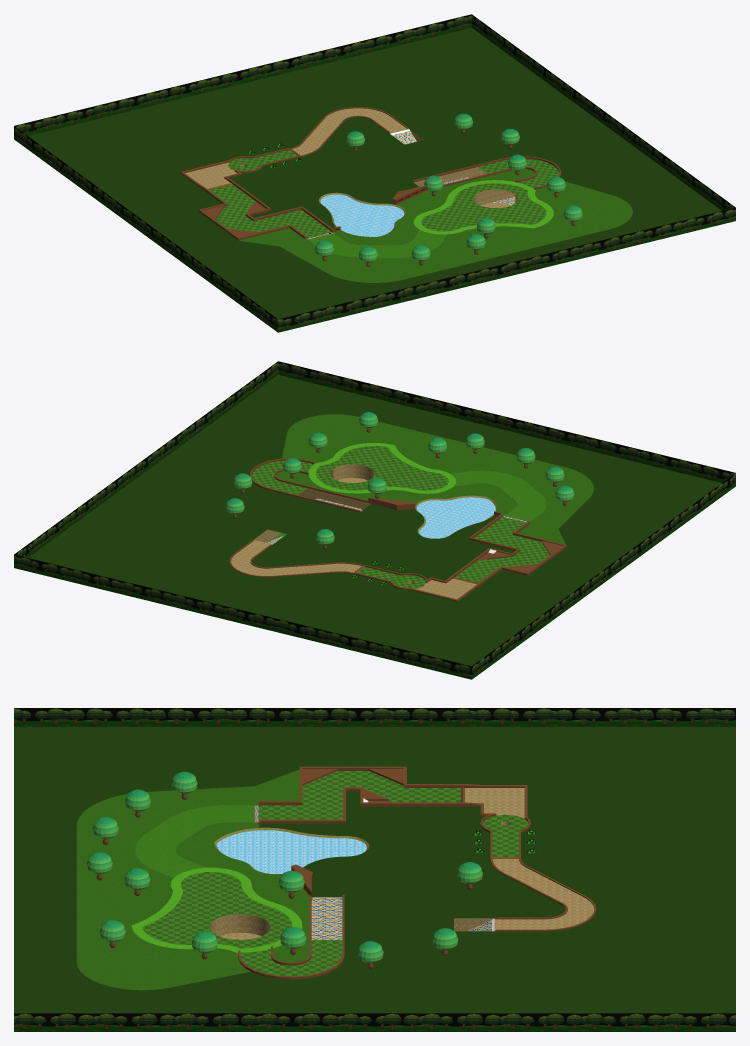
3 views of the same model, one above another, from view 1: azimuth 30°, elevation 25°; view 2: azimuth 150°, elevation 25°; view 3: azimuth 270°, elevation 25° (orthographic). The views are drawn at different scales.
Parts seen in each view (by area): view 1: Golfcoursev1_1-SKP--darkGrass, Golfcoursev1_1-SKP--Tile_Mosaic_Multi, Golfcoursev1_1-SKP--Off_grass, Golfcoursev1_1-SKP--Greenzone, Golfcoursev1_1-SKP--wood, Golfcoursev1_1-SKP--Herringbone, Golfcoursev1_1-COM-Tree1__Tre-8474-Material_36, Golfcoursev1_1-SKP--Resin_Blue1, Golfcoursev1_1-SKP--Lightgrass, Golfcoursev1_1-SKP--Resin_Blue; view 2: Golfcoursev1_1-SKP--darkGrass, Golfcoursev1_1-SKP--Tile_Mosaic_Multi, Golfcoursev1_1-SKP--Off_grass, Golfcoursev1_1-SKP--Greenzone, Golfcoursev1_1-SKP--wood, Golfcoursev1_1-SKP--Herringbone, Golfcoursev1_1-COM-Tree1__Tre-8474-Material_36, Golfcoursev1_1-SKP--Resin_Blue1, Golfcoursev1_1-SKP--Lightgrass, Golfcoursev1_1-SKP--Resin_Blue; view 3: Golfcoursev1_1-SKP--darkGrass, Golfcoursev1_1-SKP--Tile_Mosaic_Multi, Golfcoursev1_1-SKP--Off_grass, Golfcoursev1_1-SKP--Greenzone, Golfcoursev1_1-SKP--wood, Golfcoursev1_1-SKP--Herringbone, Golfcoursev1_1-COM-Tree1__Tre-8474-Material_36, Golfcoursev1_1-SKP--Resin_Blue1, Golfcoursev1_1-SKP--Lightgrass, Golfcoursev1_1-SKP--Resin_Blue, Golfcoursev1_1-SKP--Square_Glass_Tile_03, Golfcoursev1_1-SKP--Chipboard1.
Boxes of the visible parts, <box> form: Golfcoursev1_1-SKP--darkGrass: <box>28,27,721,319</box>; Golfcoursev1_1-SKP--Tile_Mosaic_Multi: <box>14,14,735,332</box>; Golfcoursev1_1-SKP--Off_grass: <box>239,168,632,282</box>; Golfcoursev1_1-SKP--Greenzone: <box>209,150,559,238</box>; Golfcoursev1_1-SKP--wood: <box>180,107,561,240</box>; Golfcoursev1_1-SKP--Herringbone: <box>185,108,517,208</box>; Golfcoursev1_1-COM-Tree1__Tre-8474-Material_36: <box>315,113,582,262</box>; Golfcoursev1_1-SKP--Resin_Blue1: <box>320,194,404,236</box>; Golfcoursev1_1-SKP--Lightgrass: <box>308,166,488,258</box>; Golfcoursev1_1-SKP--Resin_Blue: <box>413,180,553,234</box>; Golfcoursev1_1-SKP--darkGrass: <box>28,374,721,666</box>; Golfcoursev1_1-SKP--Tile_Mosaic_Multi: <box>14,361,735,679</box>; Golfcoursev1_1-SKP--Off_grass: <box>276,414,593,544</box>; Golfcoursev1_1-SKP--Greenzone: <box>252,446,549,588</box>; Golfcoursev1_1-SKP--wood: <box>229,458,566,601</box>; Golfcoursev1_1-SKP--Herringbone: <box>231,464,476,599</box>; Golfcoursev1_1-COM-Tree1__Tre-8474-Material_36: <box>225,412,574,544</box>; Golfcoursev1_1-SKP--Resin_Blue1: <box>416,497,495,538</box>; Golfcoursev1_1-SKP--Lightgrass: <box>269,470,546,541</box>; Golfcoursev1_1-SKP--Resin_Blue: <box>308,443,456,493</box>; Golfcoursev1_1-SKP--darkGrass: <box>14,726,735,1013</box>; Golfcoursev1_1-SKP--Tile_Mosaic_Multi: <box>14,708,735,1031</box>; Golfcoursev1_1-SKP--Off_grass: <box>76,770,309,990</box>; Golfcoursev1_1-SKP--Greenzone: <box>142,771,528,976</box>; Golfcoursev1_1-SKP--wood: <box>238,766,596,979</box>; Golfcoursev1_1-SKP--Herringbone: <box>210,788,594,939</box>; Golfcoursev1_1-COM-Tree1__Tre-8474-Material_36: <box>86,771,482,963</box>; Golfcoursev1_1-SKP--Resin_Blue1: <box>216,830,366,873</box>; Golfcoursev1_1-SKP--Lightgrass: <box>135,805,342,941</box>; Golfcoursev1_1-SKP--Resin_Blue: <box>131,867,302,952</box>; Golfcoursev1_1-SKP--Square_Glass_Tile_03: <box>311,897,491,939</box>; Golfcoursev1_1-SKP--Chipboard1: <box>214,827,369,874</box>.
Size of the model in its own units: 92349 by 6201 by 92305.
Materials: 18 (17 with a texture image).
